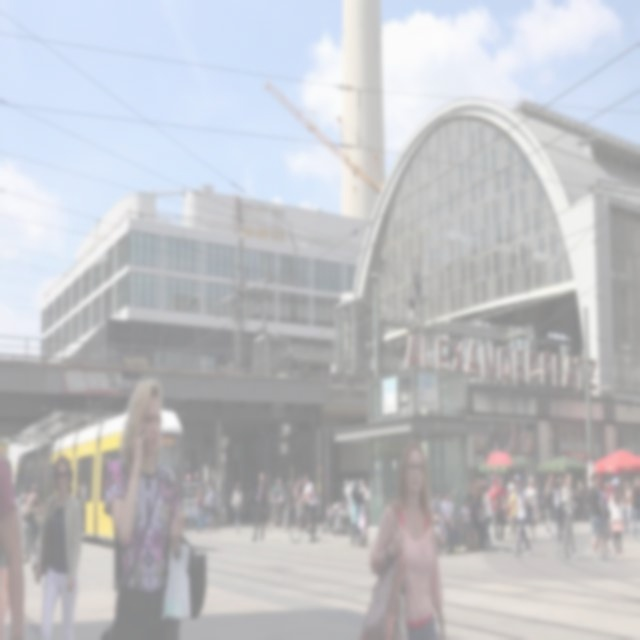pessoa: (96, 374, 208, 638), (356, 437, 449, 639), (30, 452, 84, 639), (0, 454, 31, 638), (483, 418, 537, 462), (584, 471, 608, 562), (440, 486, 468, 554), (21, 482, 47, 554), (511, 473, 532, 558), (606, 474, 626, 562), (560, 471, 580, 558), (296, 473, 317, 543), (428, 486, 449, 556), (488, 476, 509, 543), (250, 470, 268, 542), (322, 497, 350, 540), (477, 484, 494, 552), (525, 474, 539, 542), (468, 492, 484, 551), (550, 477, 564, 544), (620, 478, 634, 542), (230, 480, 246, 535), (544, 473, 556, 540), (270, 476, 284, 528), (292, 473, 304, 532), (350, 477, 360, 547), (506, 482, 518, 540), (630, 476, 640, 544), (460, 497, 476, 536), (298, 482, 310, 534), (357, 490, 367, 548), (597, 480, 610, 520), (194, 485, 204, 535), (202, 482, 216, 514), (282, 479, 290, 534), (576, 478, 586, 522), (535, 477, 544, 524), (288, 478, 296, 528), (505, 476, 517, 499), (269, 478, 278, 508), (358, 478, 369, 502), (338, 477, 348, 499), (595, 528, 601, 551), (603, 537, 610, 555), (497, 476, 504, 491), (558, 475, 564, 488), (636, 478, 640, 490), (482, 484, 487, 492)
